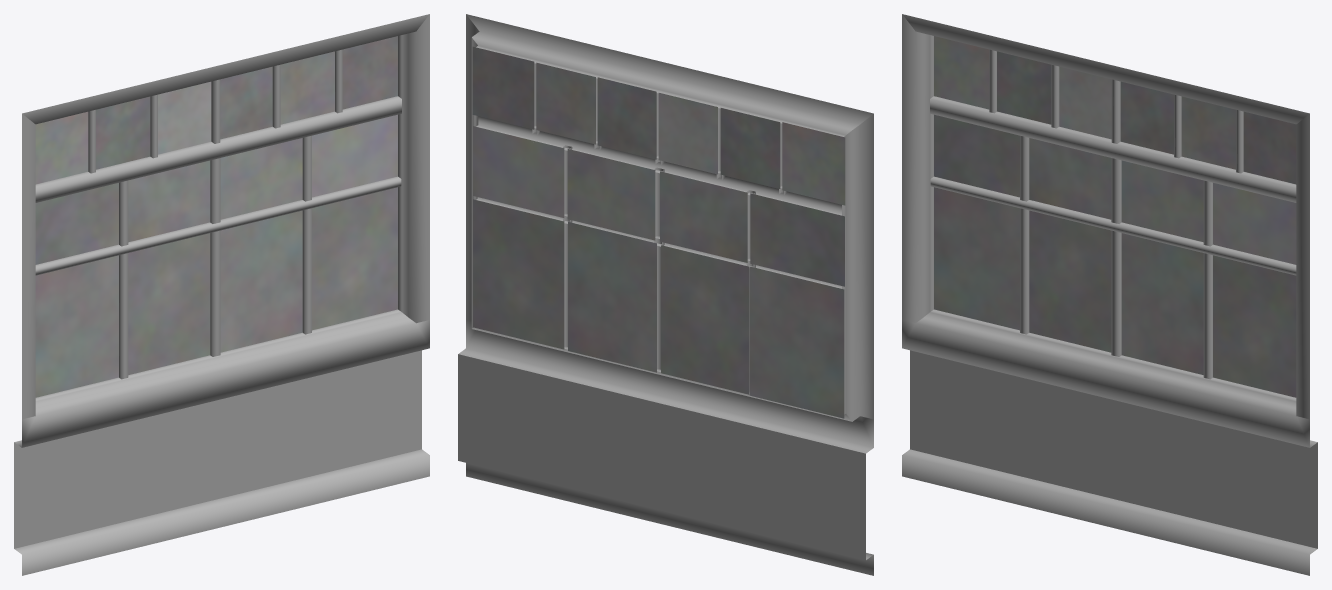
File: Store_Wall_02.fbx
The picture shows the model from 3 angles, left to right: view 1: azimuth 30°, elevation 25°; view 2: azimuth 150°, elevation 25°; view 3: azimuth 330°, elevation 25°; orthographic projection.
Visible parts, largest first — view 1: Store_Wall_02; view 2: Store_Wall_02; view 3: Store_Wall_02.
Part boxes in pixels (bbox=[...]): Store_Wall_02: bbox=[14, 14, 429, 575]; Store_Wall_02: bbox=[458, 14, 873, 575]; Store_Wall_02: bbox=[902, 14, 1317, 575].
Size of the model in its own units: 3 by 3.25 by 0.15.
